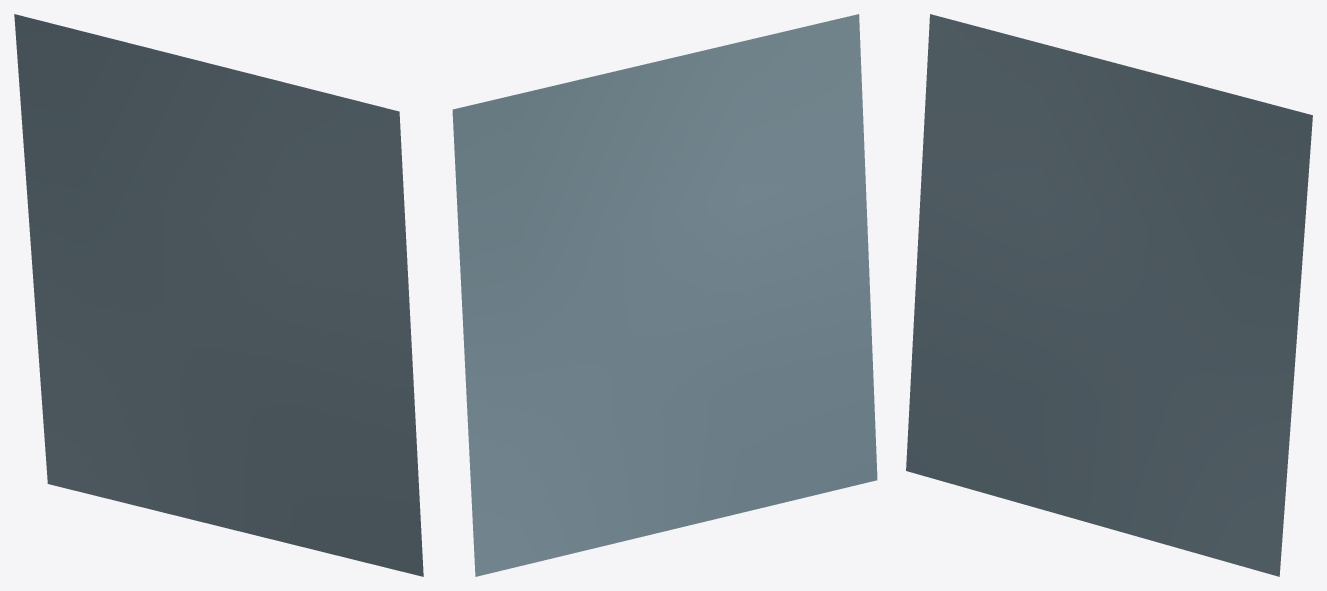
The picture shows the model from 3 angles, left to right: view 1: azimuth 90°, elevation 25°; view 2: azimuth 150°, elevation 25°; view 3: azimuth 270°, elevation 25°; orthographic projection. The views are drawn at different scales.
Visible parts, largest first — view 1: Tile_1.005; view 2: Tile_1.005; view 3: Tile_1.005.
Part boxes in pixels (x1,y1,x2,y2): Tile_1.005: (14, 14, 423, 576); Tile_1.005: (452, 14, 877, 576); Tile_1.005: (906, 14, 1312, 576).
Bounding box in the file's own units: 0.165 × 0.352 × 0.2782.
Materials: 1 (1 with a texture image).
